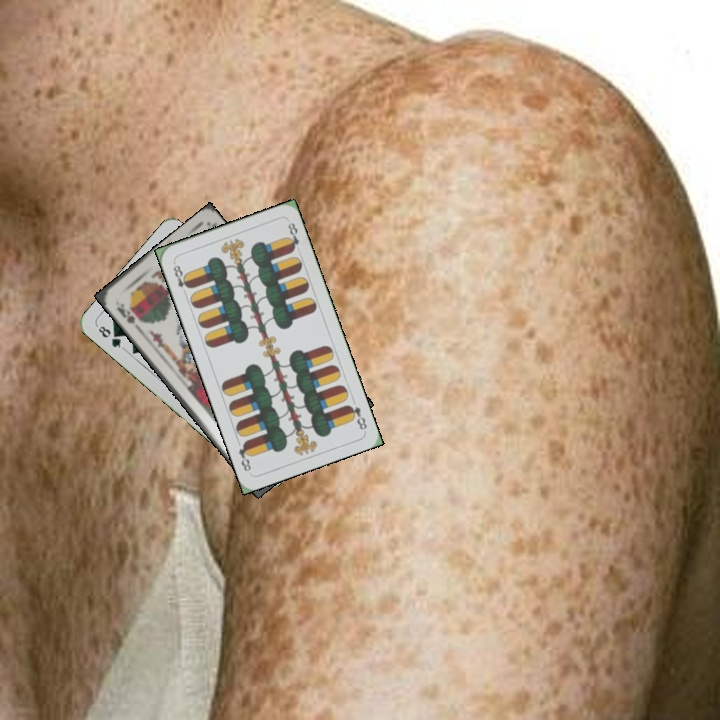E8: (343, 401, 370, 433), (169, 258, 193, 291)
G8: (93, 321, 127, 352)
SK: (112, 299, 145, 327)
